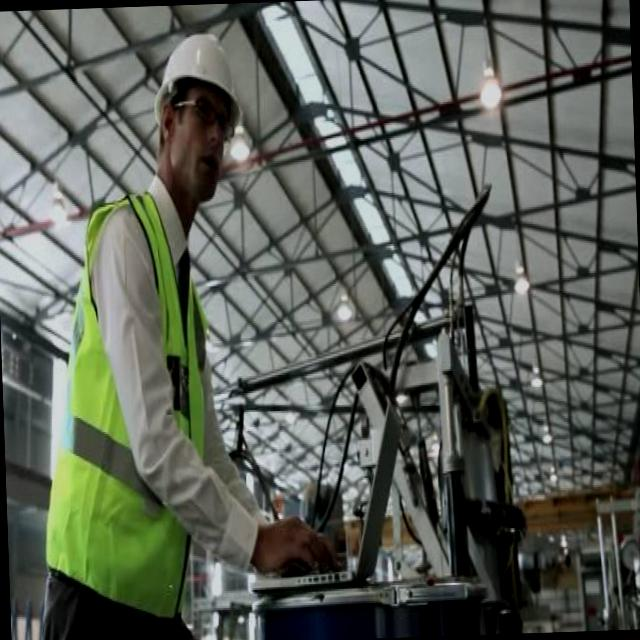helmet: (146, 27, 248, 138)
vest: (46, 199, 234, 589)
